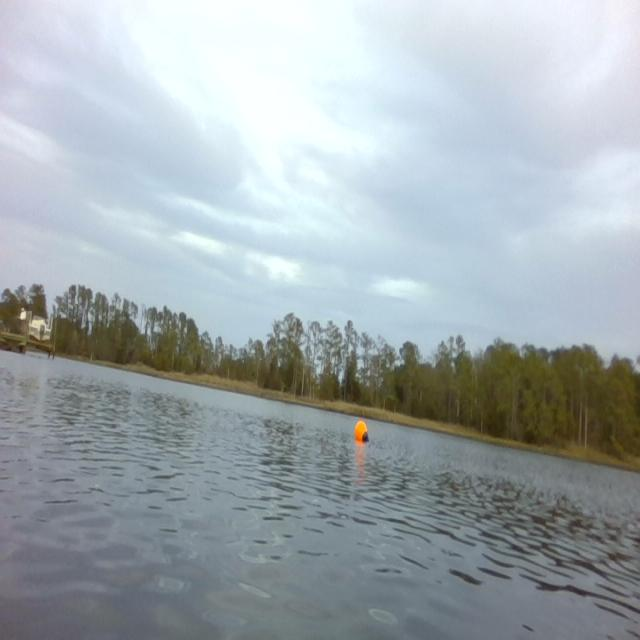Buoy: (354, 418, 371, 445)
